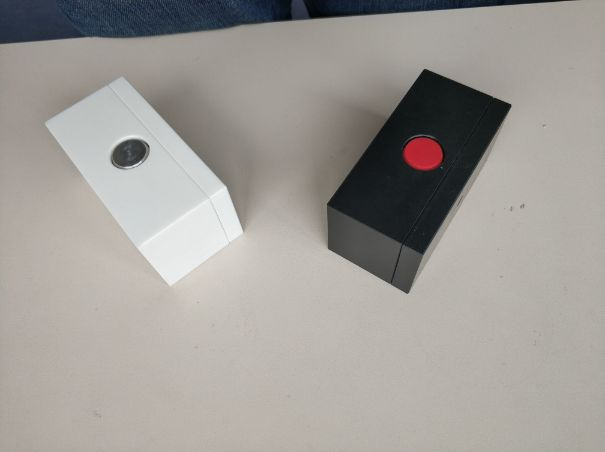black+black+red: (324, 68, 514, 297)
white+white+silver: (42, 75, 244, 290)
